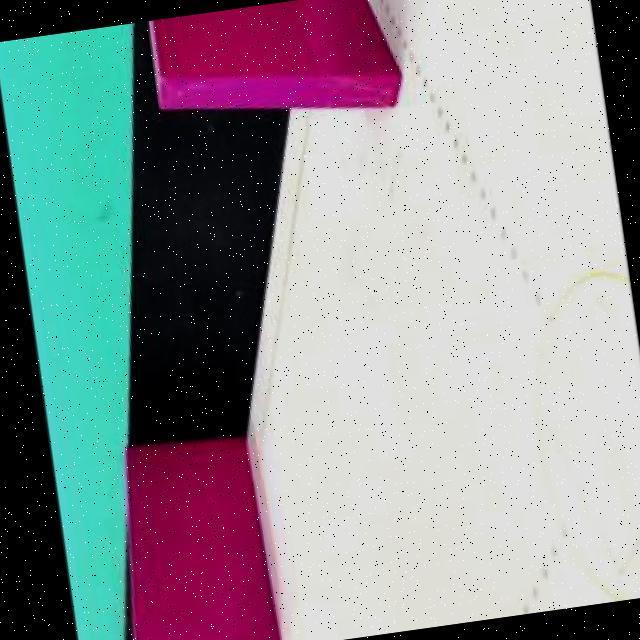xparking: (129, 439, 279, 640), (157, 0, 402, 107)
